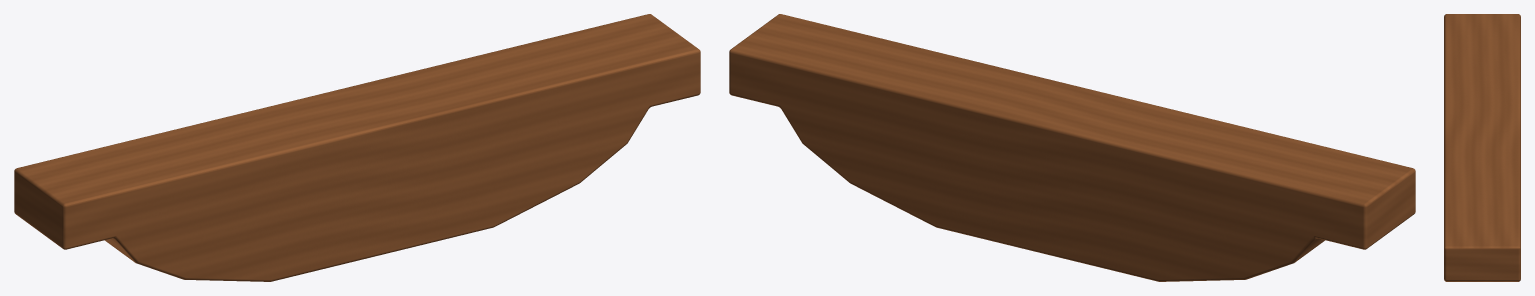
3 renders of one model, left to right at view 1: azimuth 30°, elevation 25°; view 2: azimuth 150°, elevation 25°; view 3: azimuth 270°, elevation 25°, orthographic. The views are drawn at different scales.
Parts seen in each view (by area): view 1: k2_gong_01; view 2: k2_gong_01; view 3: k2_gong_01.
Boxes of the visible parts, x1,y1,x2,y2 form: k2_gong_01: (14, 14, 700, 281); k2_gong_01: (729, 14, 1415, 281); k2_gong_01: (1444, 14, 1520, 281).
Bounding box in the file's own units: 3.15 × 0.6059 × 0.4361.
1 material, 1 textured.
